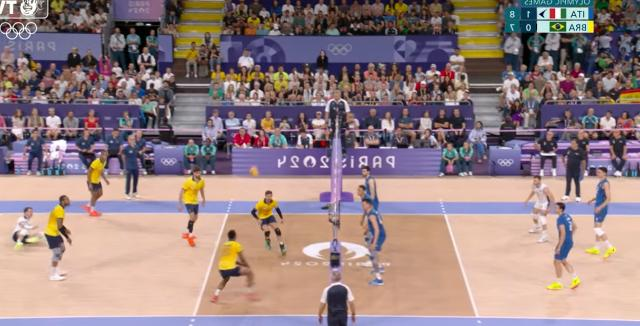Levantador: (550, 202, 574, 290), (256, 192, 276, 246)
Libero: (527, 176, 551, 238), (9, 206, 41, 252)
bola: (250, 168, 258, 179)
